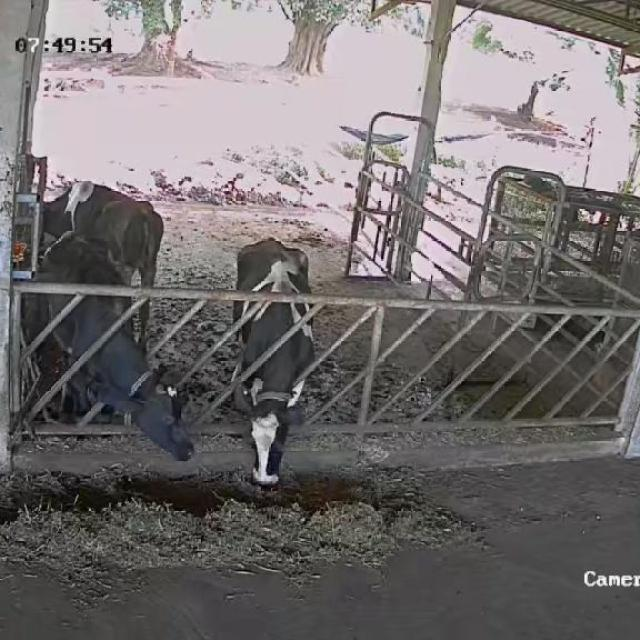drinking: (16, 178, 166, 370)
feeding: (33, 227, 206, 468), (219, 236, 329, 494)
